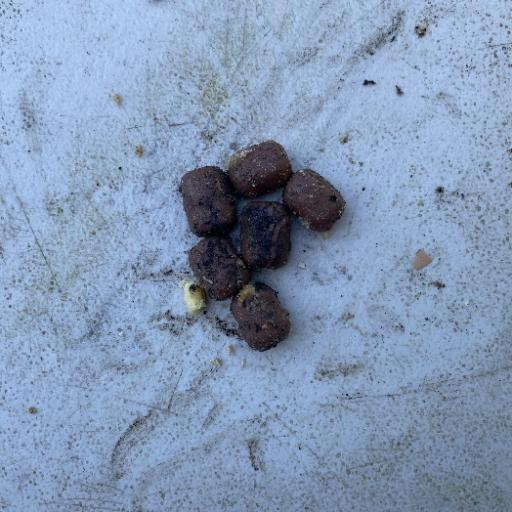Waste: (176, 138, 346, 353), (229, 280, 291, 353), (280, 167, 346, 233), (225, 138, 292, 198)
